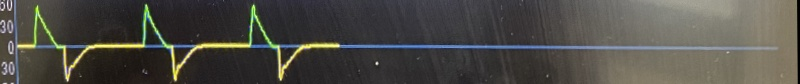normal_flow: (10, 1, 340, 84)
